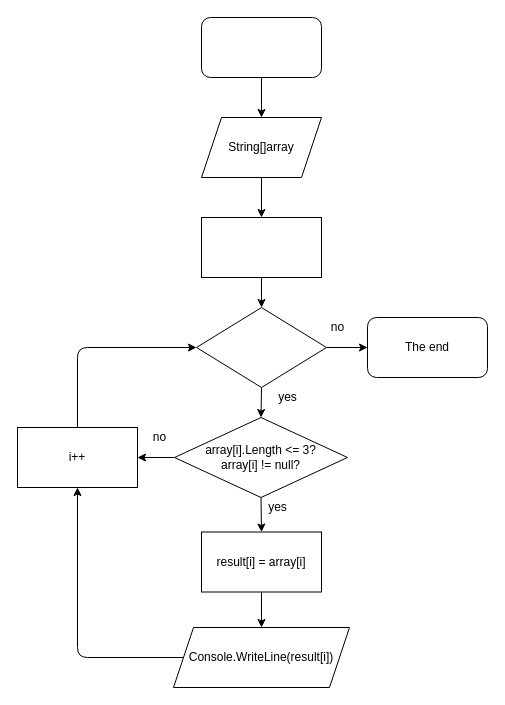
Some shapes in this 505 by 705 pixel diagram are drawn without their labels. Here are the shapes that lost their labels. From the top down, the centre of each, then its label:
point (261, 47): Start
point (261, 247): String[]result i=0
point (261, 347): i < array.Length?
